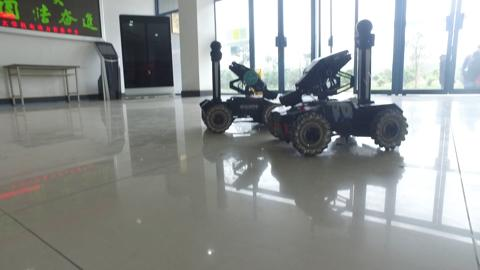chariot: (268, 19, 411, 165), (195, 38, 295, 136)
